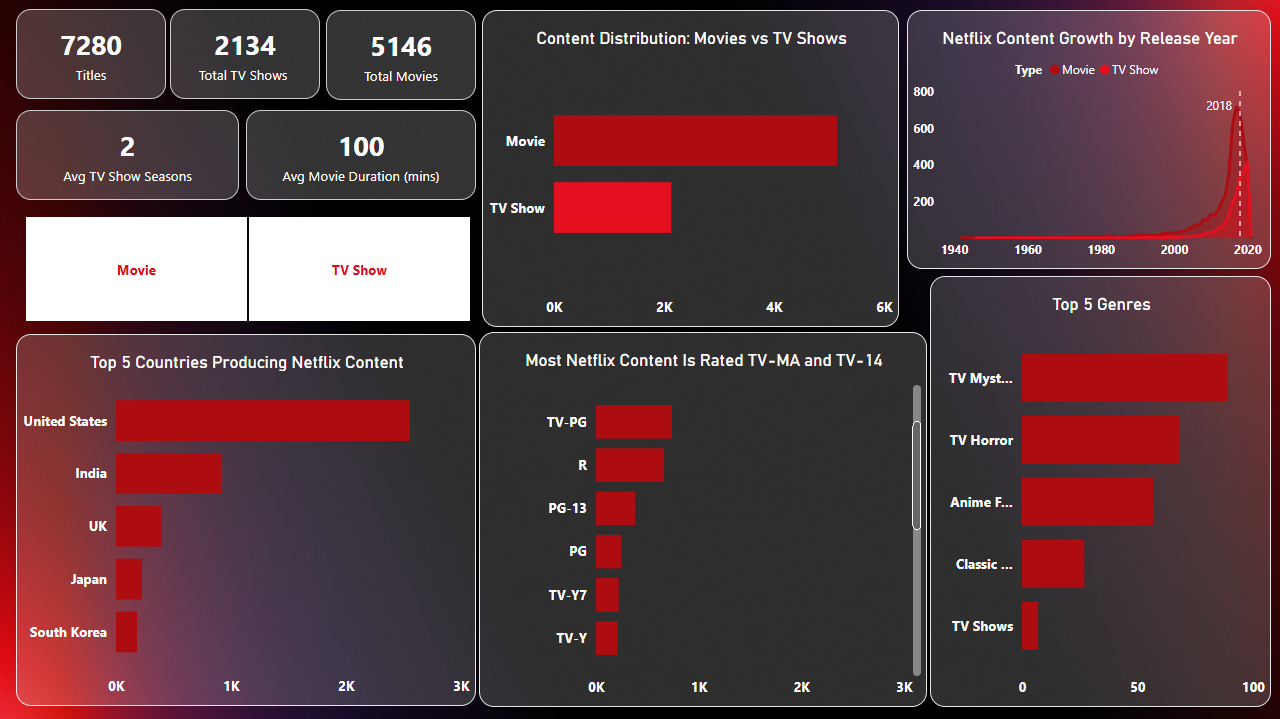

The dashboard page shown, as its layout file describes it:
{"tool":"powerbi","page":{"name":"Page 1","canvas":[1280,720],"ordinal":0},"visuals":[{"type":"clusteredBarChart","title":"Content Distribution: Movies vs TV Shows","fields":{"Y":["Measure.Total Titles"],"Category":["NetFlix_Raw.type"]},"box":[482.2,10,416.7,316.7],"z":0},{"type":"card","fields":{"Values":["Measure.Total Titles"]},"box":[15.6,8.9,150,90],"z":1000},{"type":"lineChart","title":"Netflix Content Growth by Release Year","fields":{"Y":["Measure.Total Titles"],"Category":["NetFlix_Raw.release_year"],"Series":["NetFlix_Raw.type"]},"box":[906.7,10,364.4,258.9],"z":2000},{"type":"card","fields":{"Values":["Measure.TV Shows Count"]},"box":[170,8.9,150,90],"z":3000},{"type":"clusteredBarChart","title":"Top 5 Countries Producing Netflix Content","fields":{"Category":["NetFlix_Raw.country"],"Y":["Measure.Total Titles"]},"box":[15.6,334.4,460,371.1],"z":4000},{"type":"card","fields":{"Values":["Measure.Movies Count"]},"box":[325.6,10,150,90],"z":5000},{"type":"slicer","fields":{"Values":["NetFlix_Raw.type"]},"box":[0,210,494.4,117.8],"z":6000},{"type":"barChart","title":"Top 5 Genres","fields":{"Category":["Netflix_Genre.genres"],"Y":["CountNonNull(Netflix_Genre.show_id)"]},"box":[930,275.6,341.1,431.1],"z":7000},{"type":"clusteredBarChart","title":"Most Netflix Content Is Rated TV-MA and TV-14","fields":{"Category":["NetFlix_Raw.rating"],"Y":["Measure.Total Titles"]},"box":[478.9,332.2,447.8,374.4],"z":8000},{"type":"card","fields":{"Values":["Measure.Avg Movie Duration"]},"box":[245.6,110,230,90],"z":9000},{"type":"card","title":"Avg TV Show Seasons","fields":{"Values":["Measure.Avg TV Show Duration"]},"box":[15.6,110,223.3,90],"z":10000}]}

Visuals, with their boxes in screenshot pixels (x1, y1, x2, y2), scaled from the page's 1280x720 canvas onto the 1280x719 screenshot:
"Content Distribution: Movies vs TV Shows" clusteredBarChart: [left=482, top=10, right=899, bottom=326]
card - Measure.Total Titles: [left=16, top=9, right=166, bottom=99]
"Netflix Content Growth by Release Year" lineChart: [left=907, top=10, right=1271, bottom=269]
card - Measure.TV Shows Count: [left=170, top=9, right=320, bottom=99]
"Top 5 Countries Producing Netflix Content" clusteredBarChart: [left=16, top=334, right=476, bottom=705]
card - Measure.Movies Count: [left=326, top=10, right=476, bottom=100]
slicer - NetFlix_Raw.type: [left=0, top=210, right=494, bottom=327]
"Top 5 Genres" barChart: [left=930, top=275, right=1271, bottom=706]
"Most Netflix Content Is Rated TV-MA and TV-14" clusteredBarChart: [left=479, top=332, right=927, bottom=706]
card - Measure.Avg Movie Duration: [left=246, top=110, right=476, bottom=200]
"Avg TV Show Seasons" card: [left=16, top=110, right=239, bottom=200]
